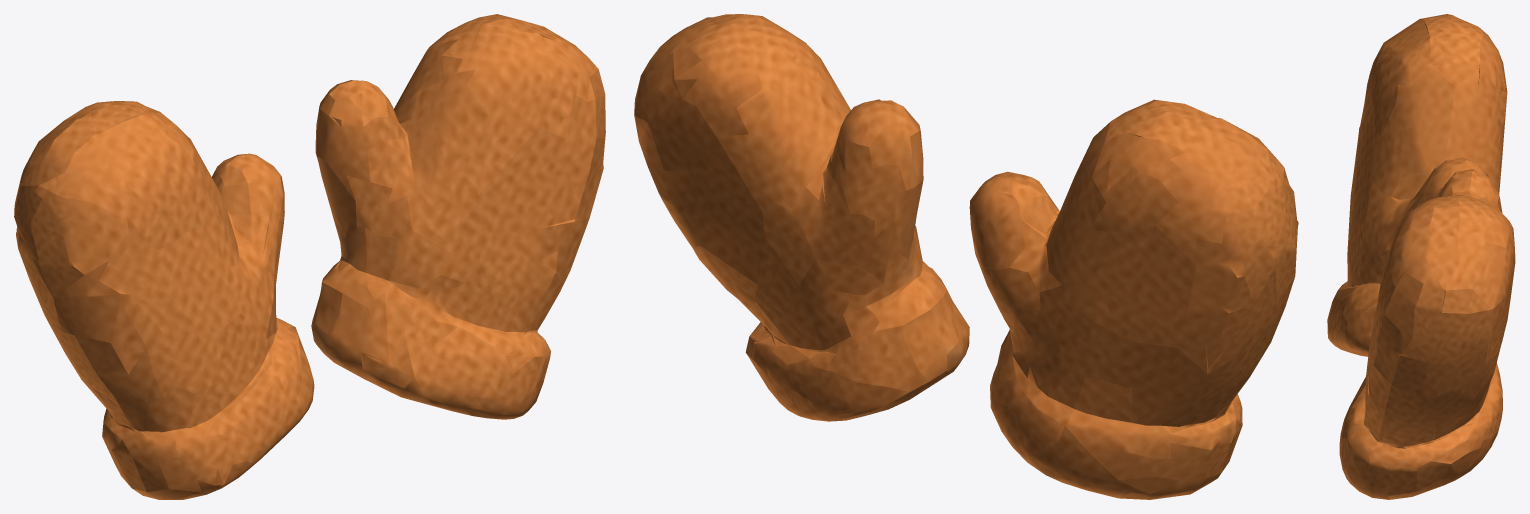
Rendered from glove_mitten.fbx.
3 views of the same model, side by side, from view 1: azimuth 30°, elevation 25°; view 2: azimuth 150°, elevation 25°; view 3: azimuth 270°, elevation 25° (orthographic). The views are drawn at different scales.
Visible parts, largest first — view 1: Mesh_0; view 2: Mesh_0; view 3: Mesh_0.
Part boxes in pixels (x1,y1,x2,y2): Mesh_0: (14, 14, 605, 499); Mesh_0: (634, 14, 1298, 499); Mesh_0: (1327, 14, 1515, 499).
Size of the model in its own units: 1.9 by 1.16 by 0.6114.
1 material, 1 textured.
